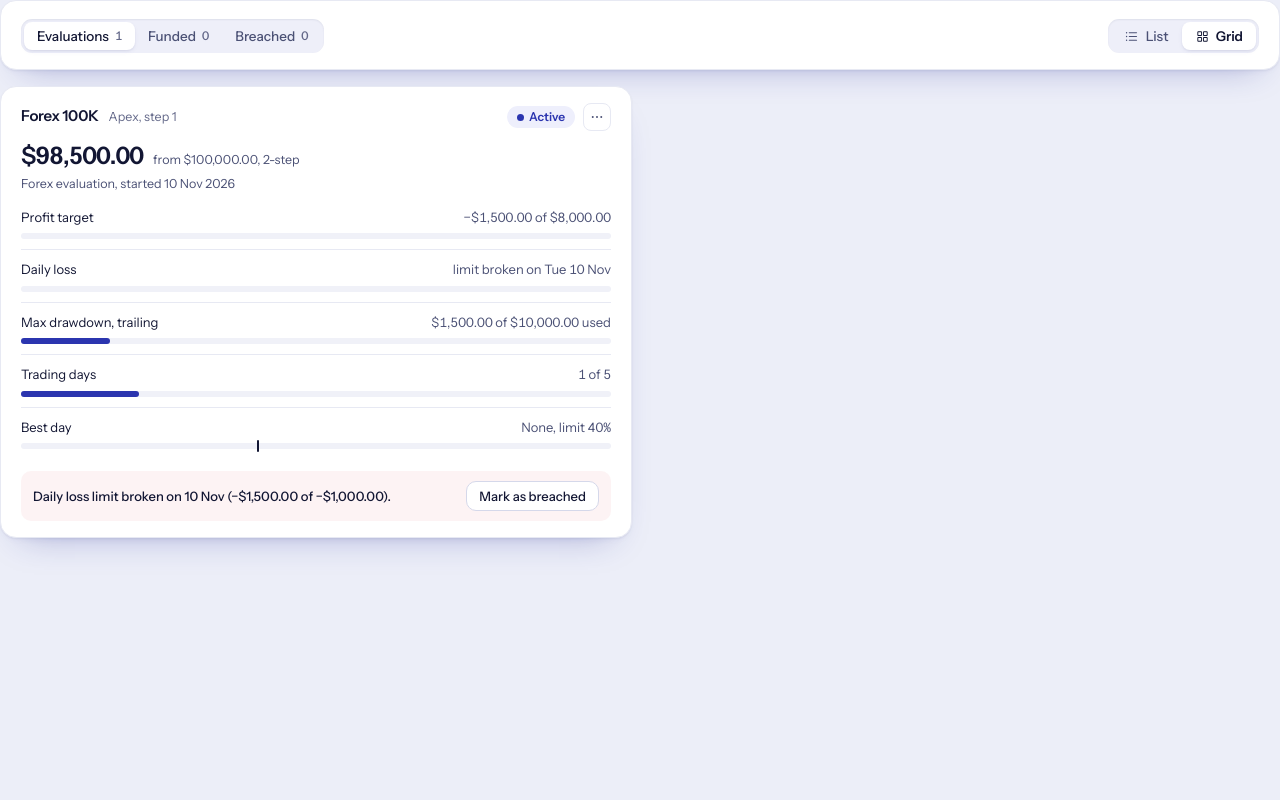
Test: a broken rule on an active challenge offers Mark as breached, which asks why before it writes anything
Expected: the text "Daily loss limit broken on 10 Nov (−$1,500.00 of −$1,000.00)." is shown, left=33, top=486, right=450, bottom=506
Expected: the text "Active" is shown, left=507, top=106, right=575, bottom=128
Click the button "Mark as breached" at (533, 496), box left=466, top=481, right=599, bottom=511
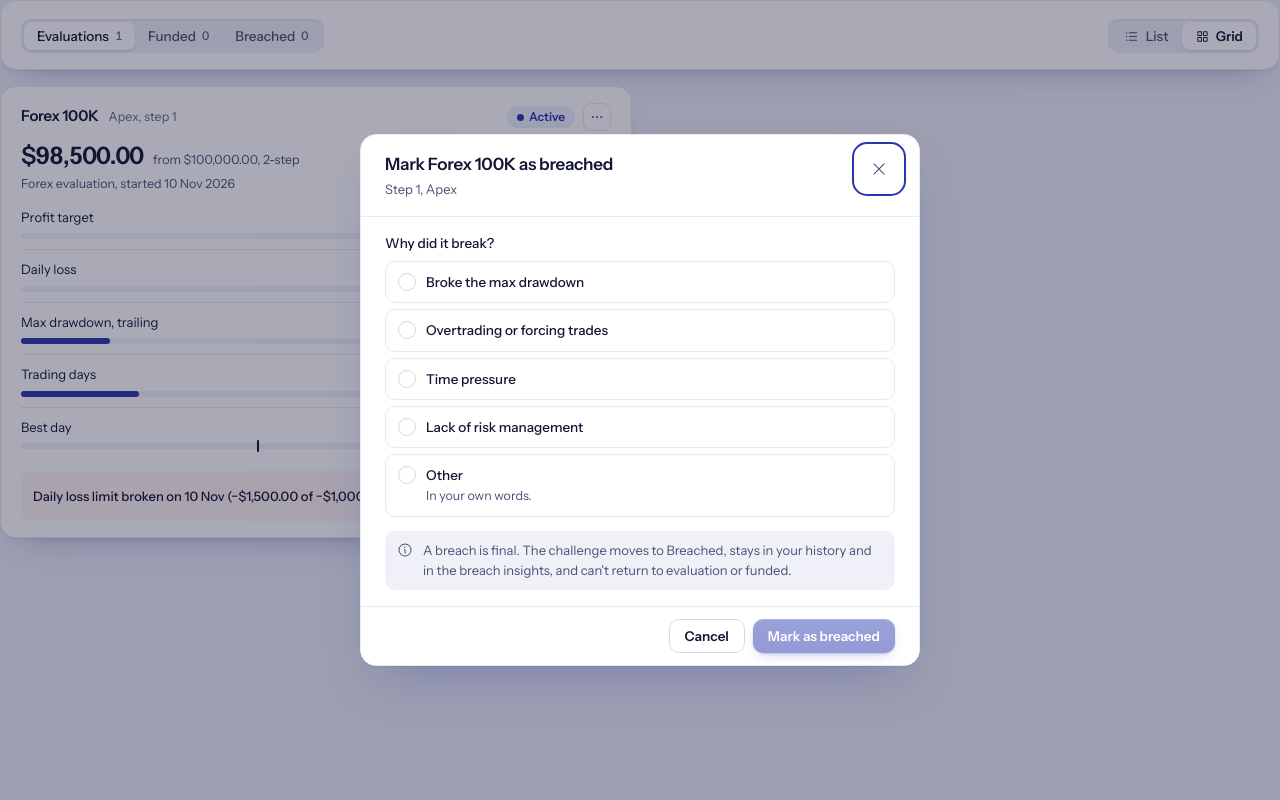
Expected: the button "Mark as breached" is disabled, left=753, top=619, right=895, bottom=653
